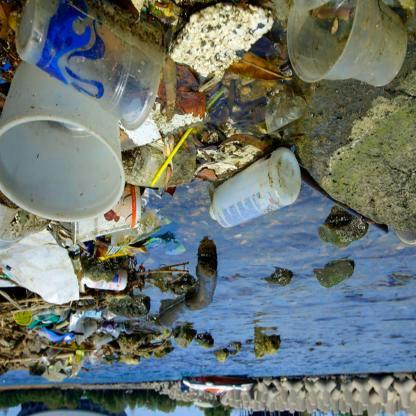Plastic: (14, 0, 162, 136), (0, 93, 130, 224), (286, 3, 409, 90), (208, 144, 301, 230), (71, 187, 141, 243), (80, 263, 128, 293)
